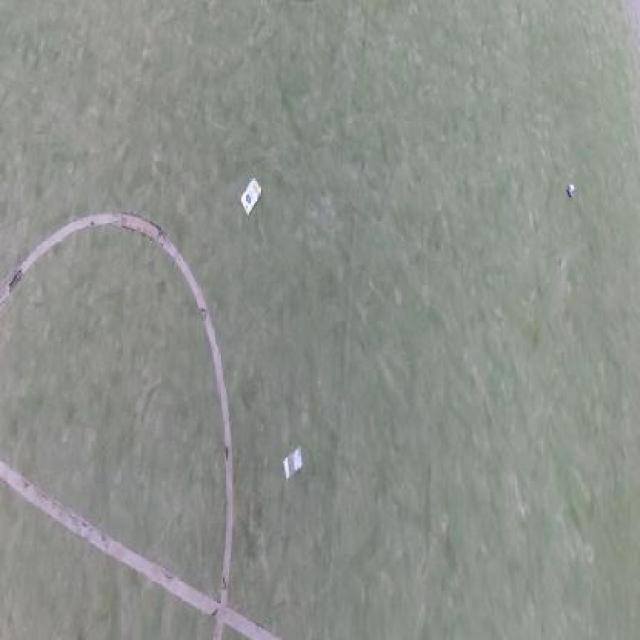Garbage: (239, 178, 261, 217), (283, 445, 303, 481), (566, 182, 575, 199)
